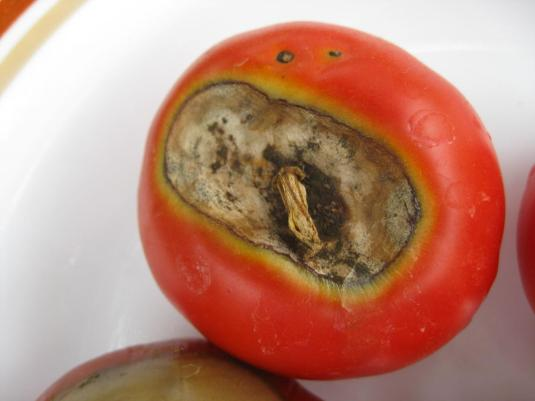blossom_rotw: (161, 68, 451, 310)
